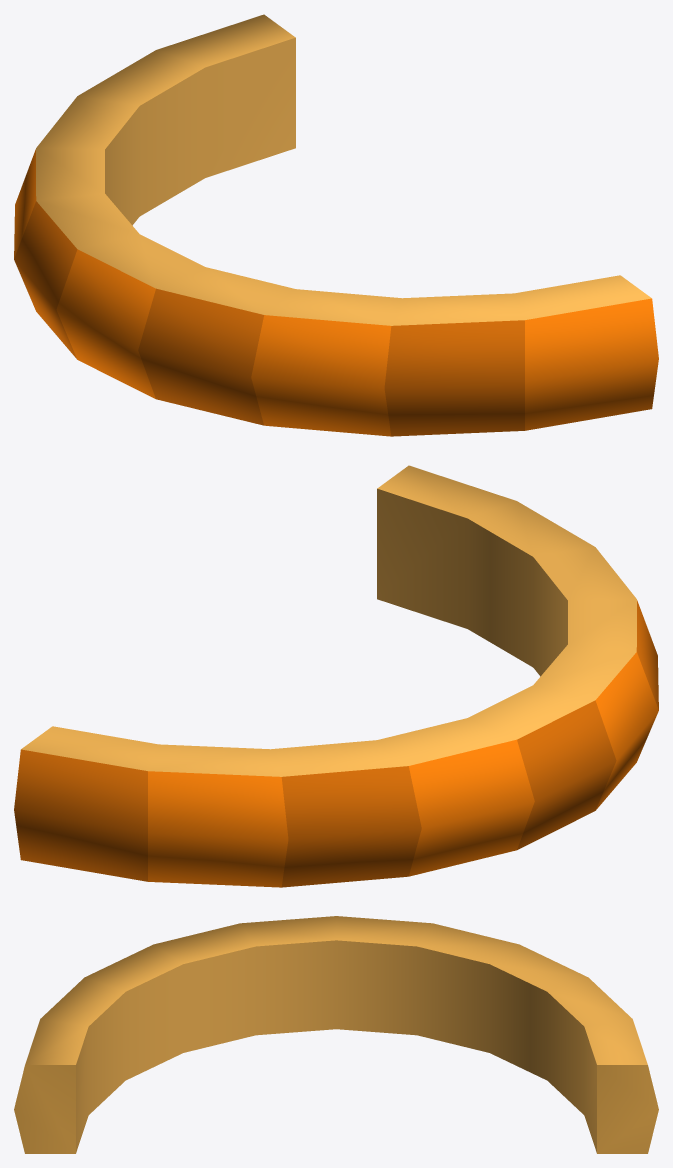
Rendered from Onion_white_half_Hotdog.fbx.
The picture shows the model from 3 angles, top to bottom: view 1: azimuth 30°, elevation 25°; view 2: azimuth 150°, elevation 25°; view 3: azimuth 270°, elevation 25°; orthographic projection. The views are drawn at different scales.
Visible parts, largest first — view 1: Onion_white_half_Hotdog; view 2: Onion_white_half_Hotdog; view 3: Onion_white_half_Hotdog.
Part boxes in pixels (left/top/right/bottom): Onion_white_half_Hotdog: left=14, top=14, right=658, bottom=436; Onion_white_half_Hotdog: left=14, top=465, right=658, bottom=887; Onion_white_half_Hotdog: left=14, top=916, right=658, bottom=1153.
Size of the model in its own units: 44.89 by 77.75 by 11.82.
